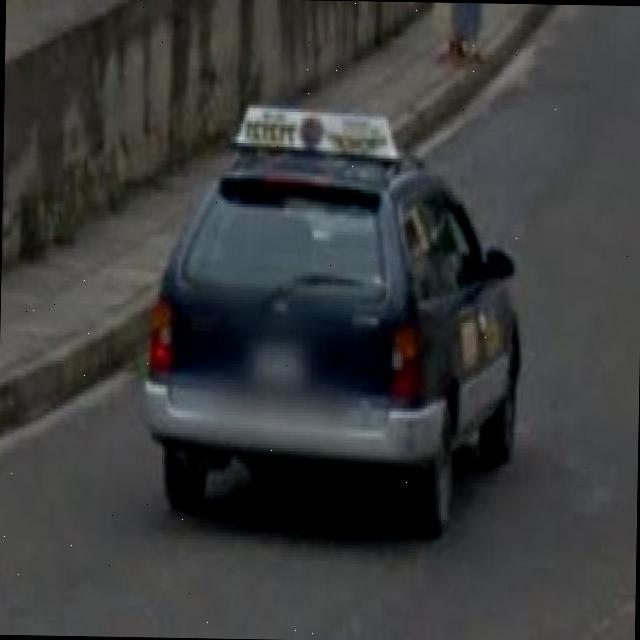car: (150, 100, 523, 542)
